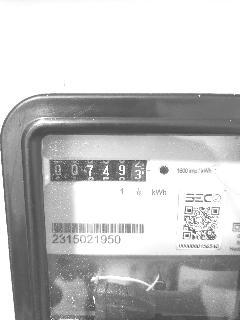1: (72, 165, 78, 175), (55, 165, 61, 175)
4: (135, 170, 141, 179)
5: (103, 166, 109, 176)
8: (87, 165, 93, 175)
:: (119, 165, 125, 175)
